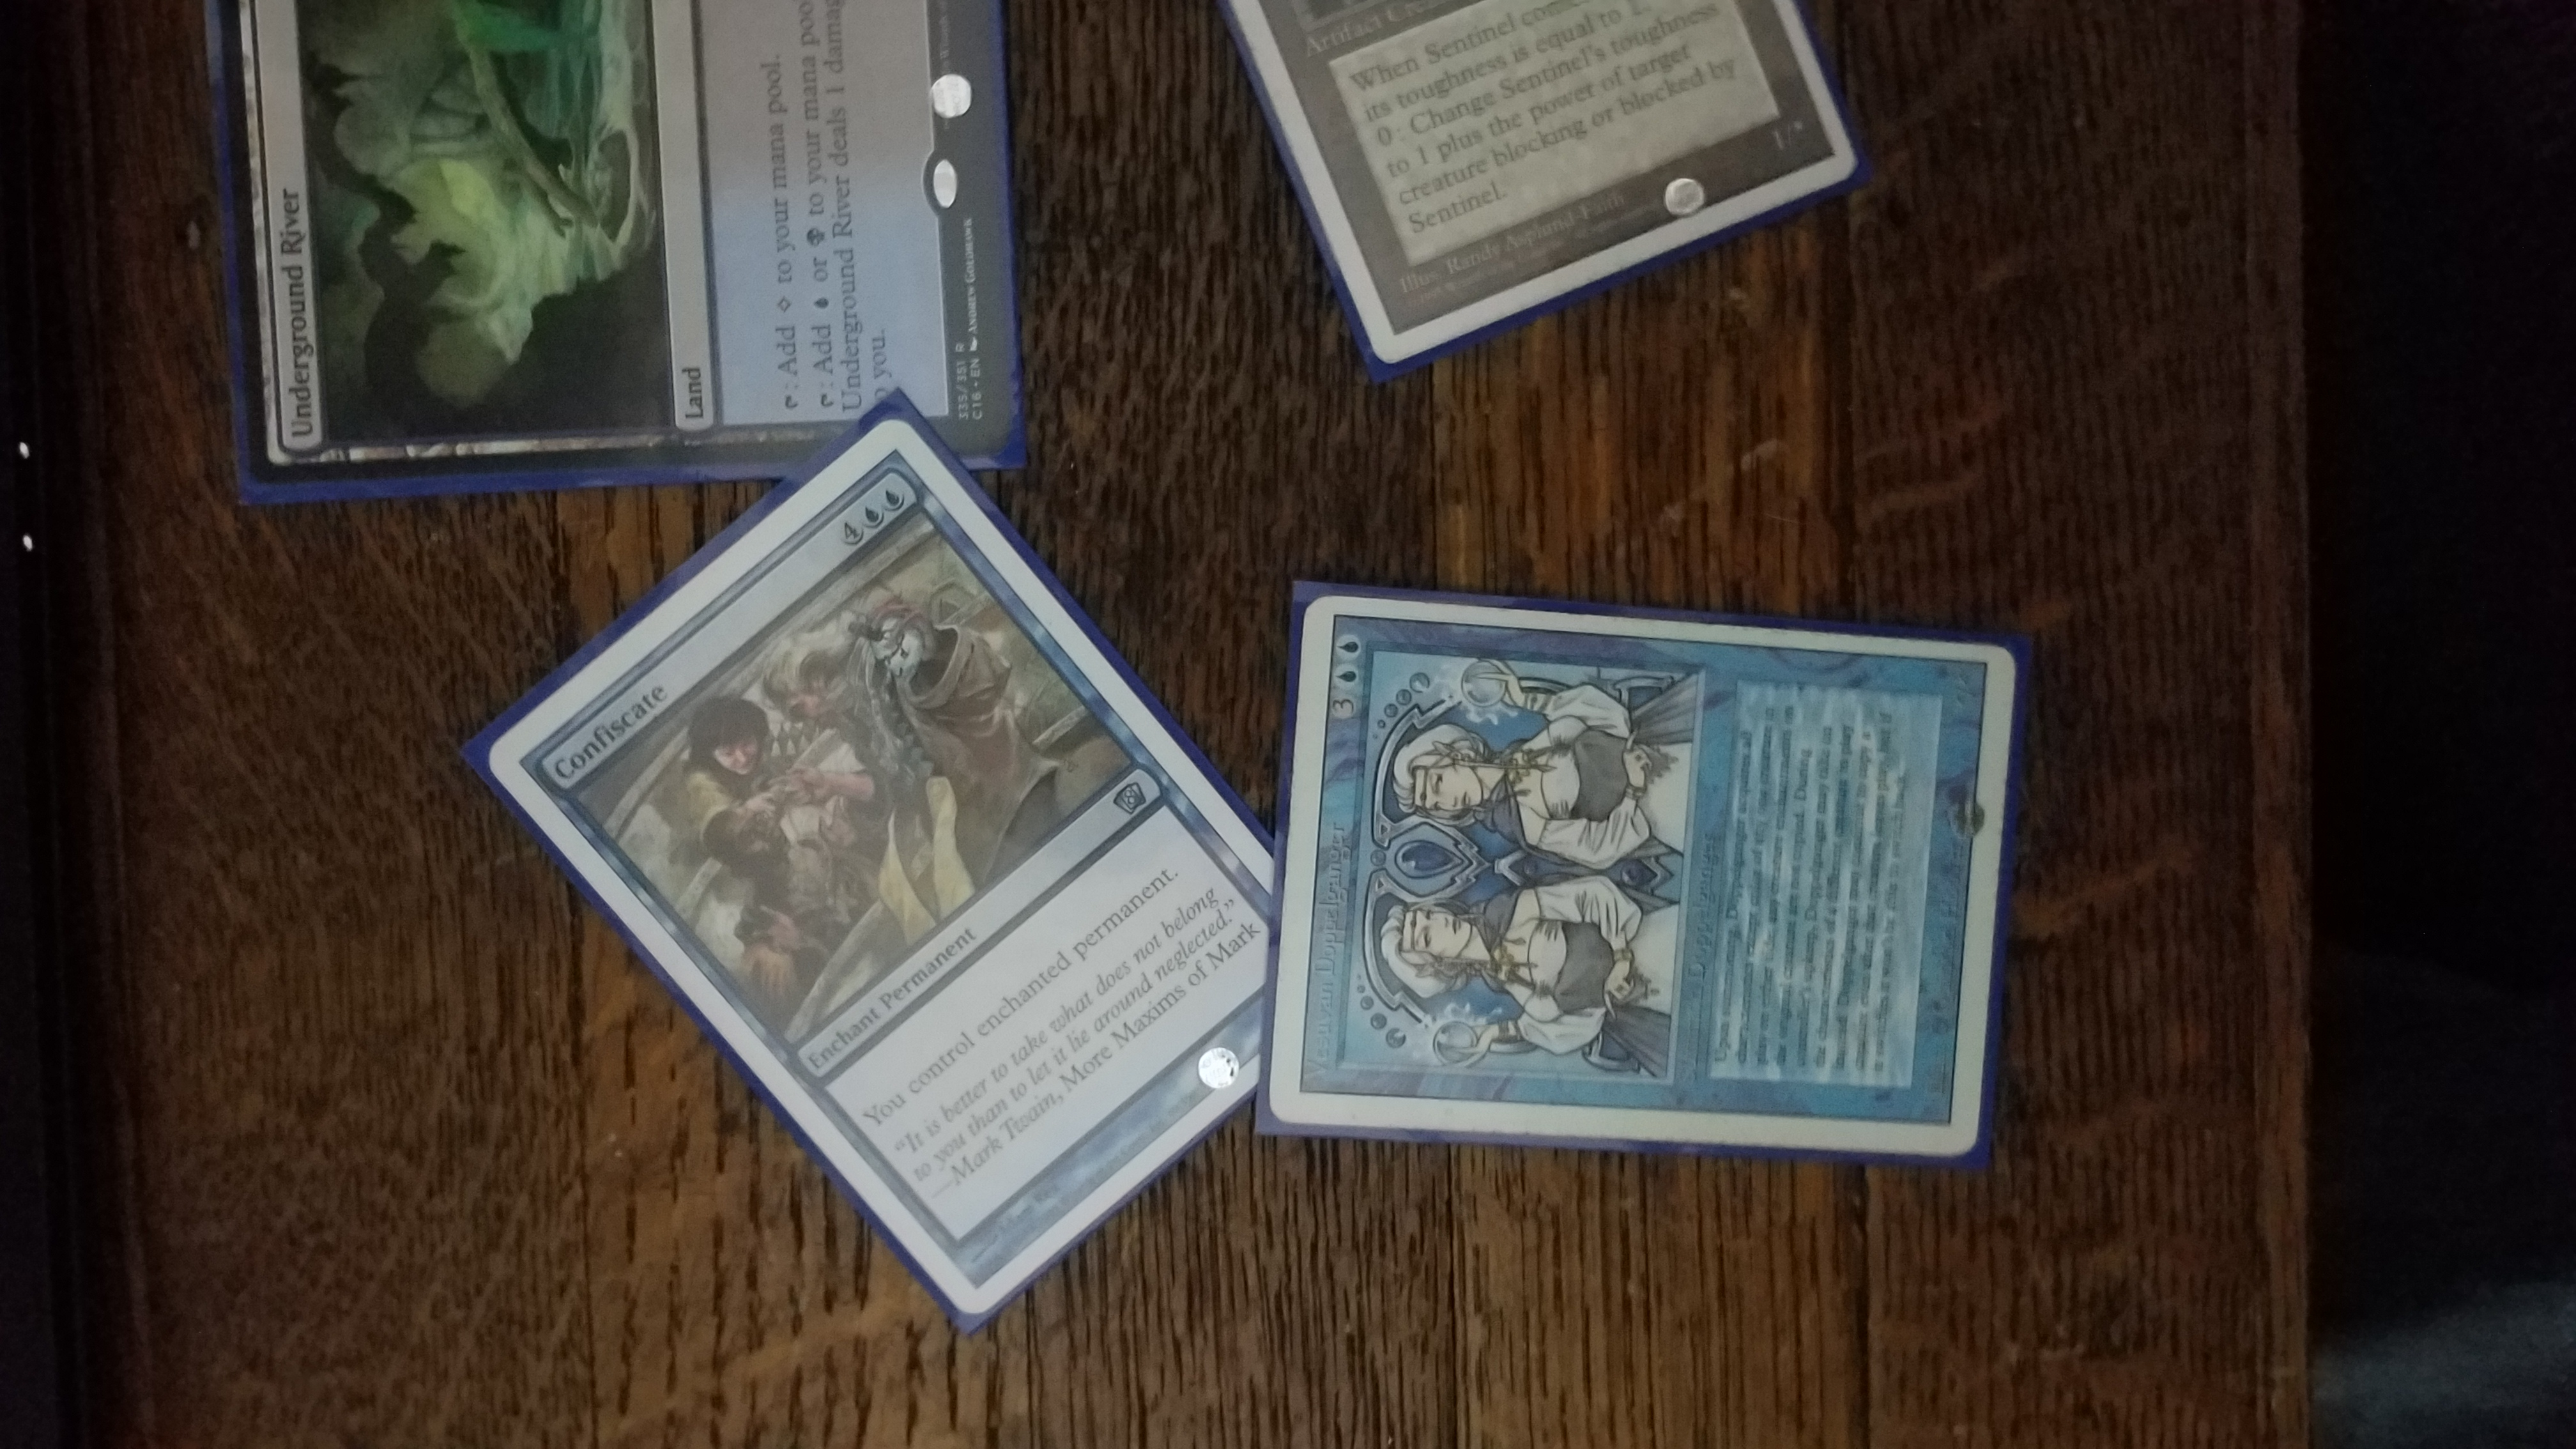Card: (483, 414, 1276, 1330), (1258, 577, 2019, 1166), (214, 0, 1008, 497)
